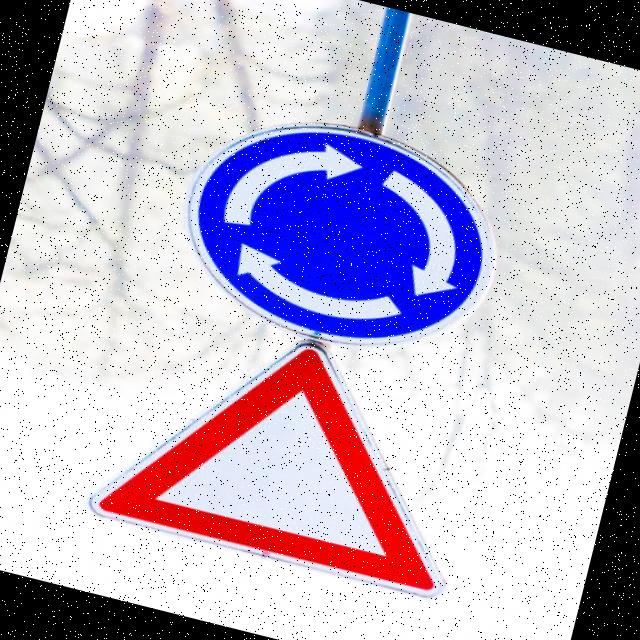round_about: (160, 87, 522, 380)
